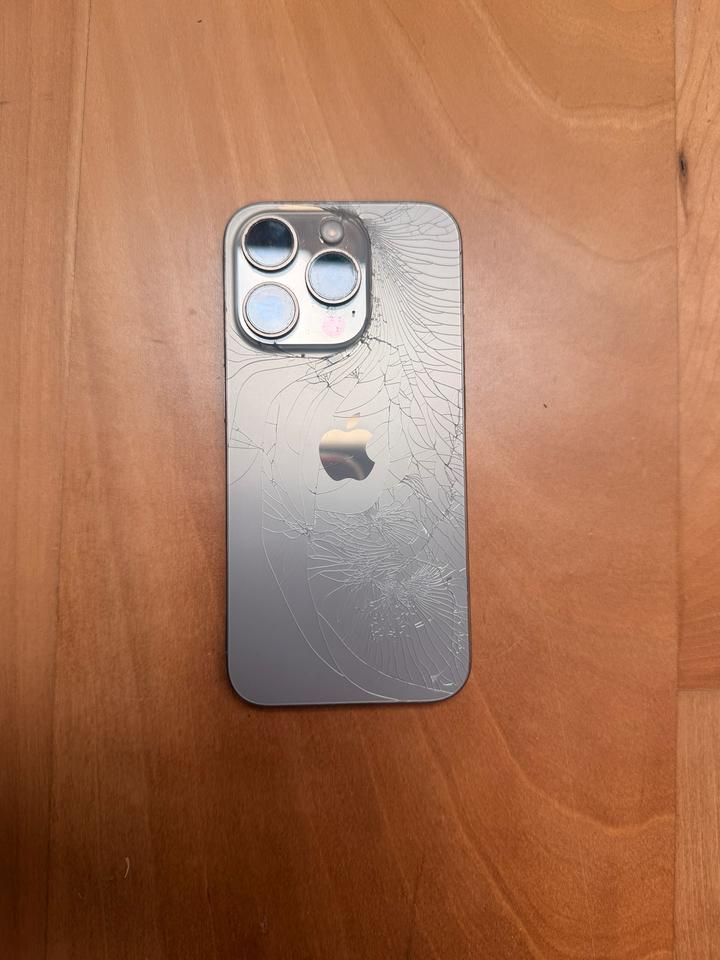broken_phone: (194, 151, 502, 753)
